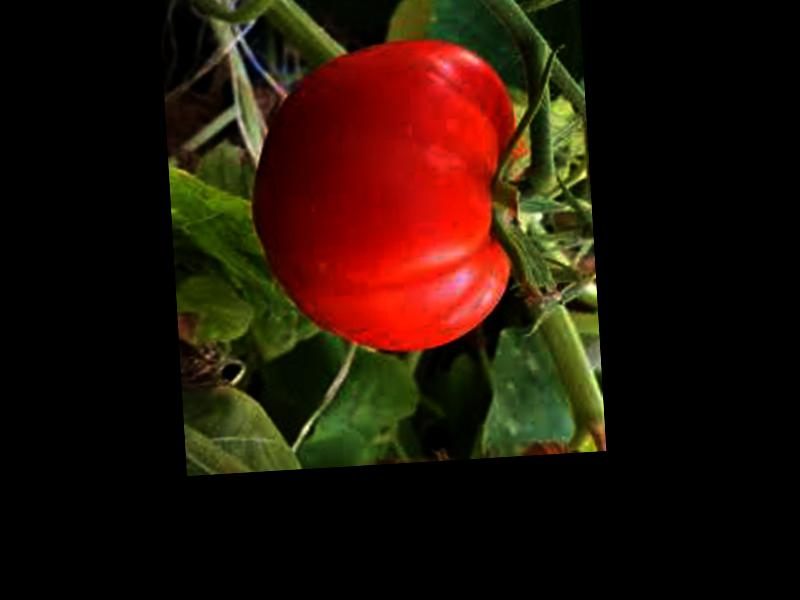Tomato: (246, 31, 527, 360)
